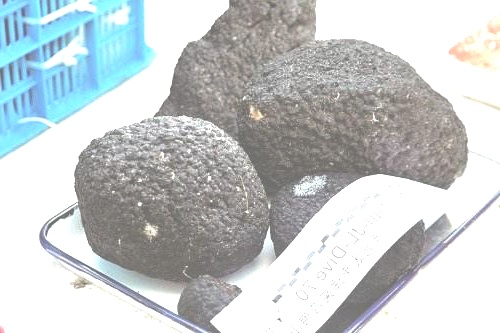halobolite: (261, 44, 456, 236), (73, 112, 272, 272), (154, 1, 313, 148)
